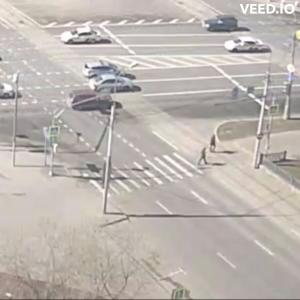car: (72, 88, 139, 116), (225, 37, 271, 55), (93, 79, 141, 95), (61, 31, 108, 46), (205, 18, 243, 35), (84, 63, 118, 81), (2, 83, 18, 100)
